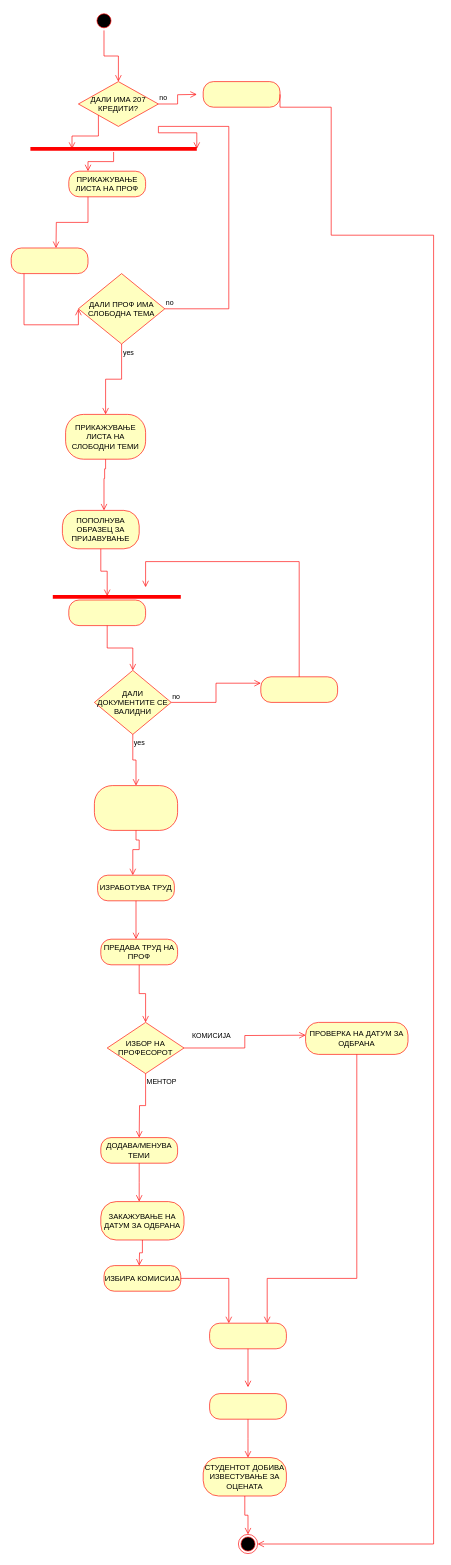
Some shapes in this 451 by 1565 pixel diagram are drawn without their labels. The shapes that lost their labels are listed below. From the top down, each one's centre as x and y in pixels, then its label:
At point (241, 94): "ЌЕ БИДЕ ОДБИЕН".
At point (49, 260): "СТУДЕНТОТ ИЗБИРА ПРОФЕСОР".
At point (107, 612): "ИСПРАЌА ДО СТУДЕНСКА СЛУЖБА".
At point (299, 689): "ПРЕПРАЌАЊЕ НА ДОКУМЕНТИТЕ".
At point (136, 807): "СЛУЖБАТА ПРАЌА ИЗВЕСТУВАЊЕ ЗА РОК".
At point (247, 1336): "СТУДЕНТОТ ГО БРАНИ ТРУДОТ".
At point (247, 1406): "ДАВААТ ОЦЕНА".
